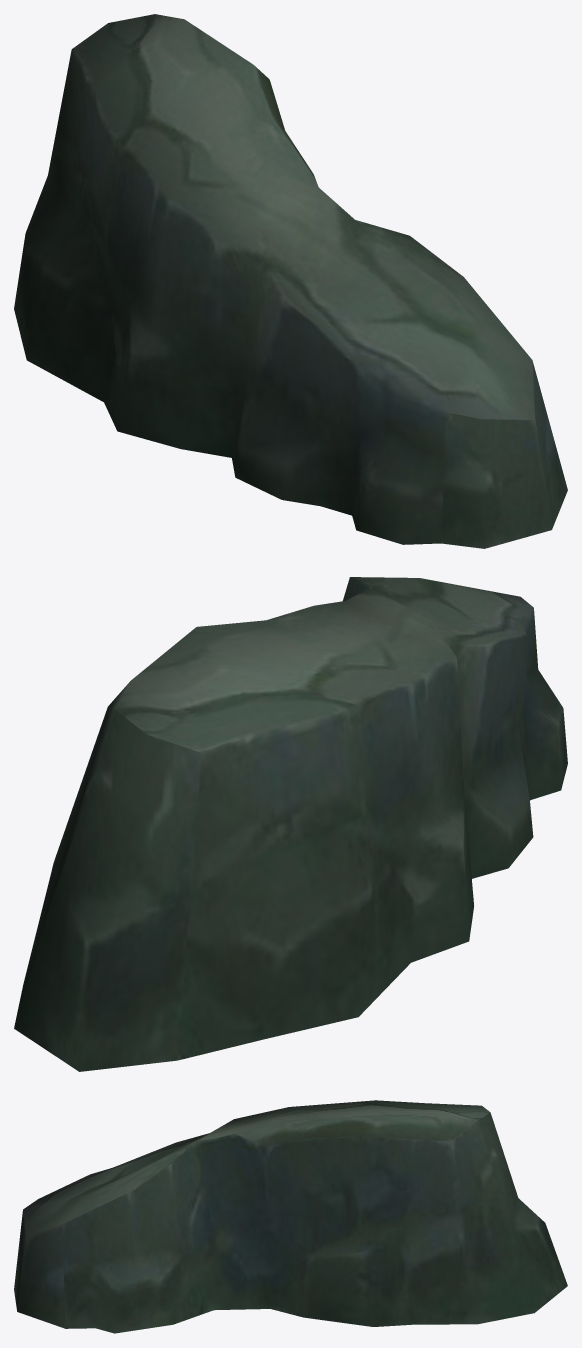
The model's file is Moba_st03.FBX.
3 views of the same model, one above another, from view 1: azimuth 30°, elevation 25°; view 2: azimuth 150°, elevation 25°; view 3: azimuth 270°, elevation 25° (orthographic). The views are drawn at different scales.
Parts seen in each view (by area): view 1: Moba_st03; view 2: Moba_st03; view 3: Moba_st03.
Part boxes in pixels (x1,y1,x2,y2): Moba_st03: (14,14,567,548); Moba_st03: (14,577,567,1071); Moba_st03: (14,1100,567,1333).
Size of the model in its own units: 2.02 by 5.05 by 1.84.
